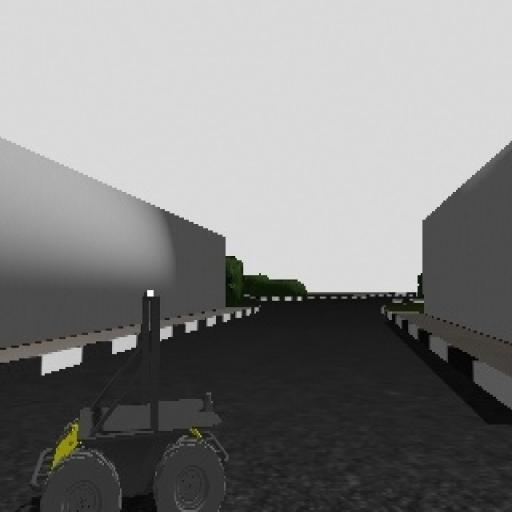huskya200: (25, 276, 245, 512)
